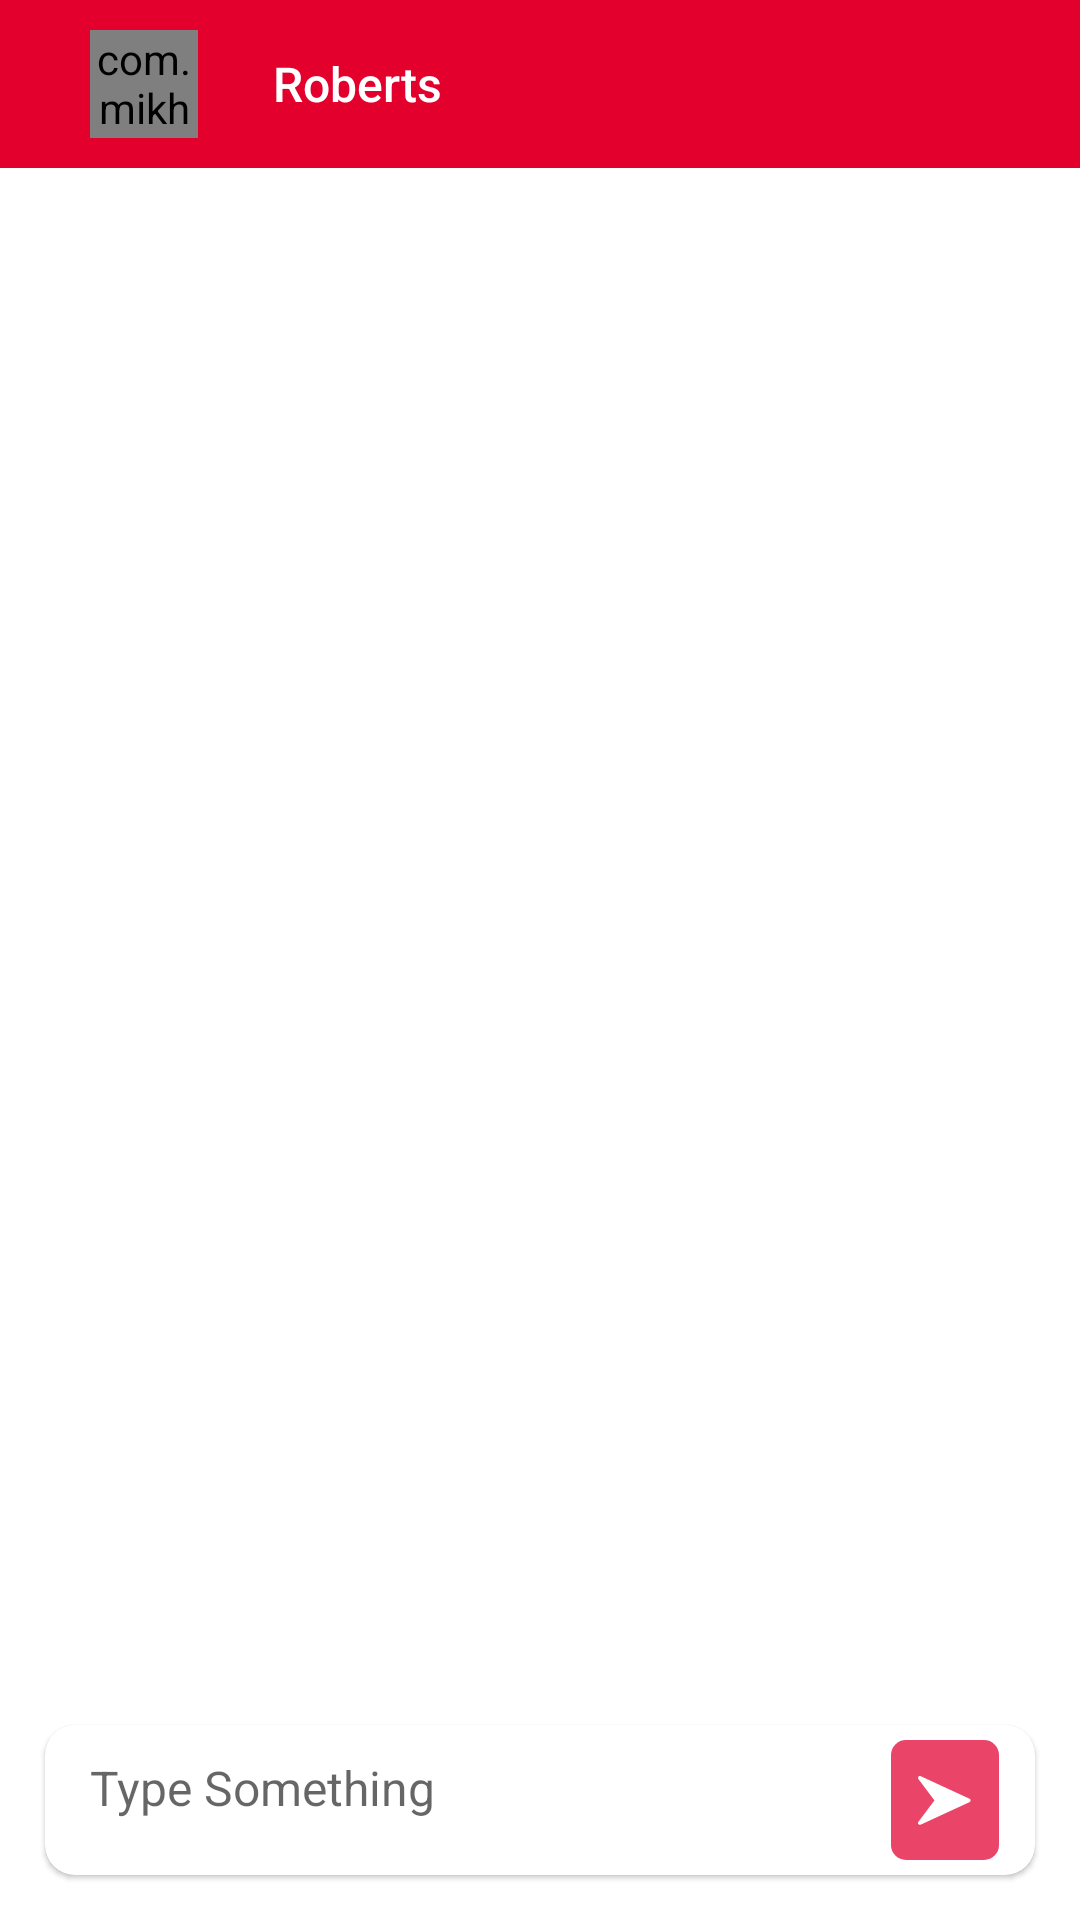

Icons on this 1080×1920 Android screen, each with its box as box=[x1, y1, x2, y2]:
enter: box=[891, 1740, 999, 1860]
